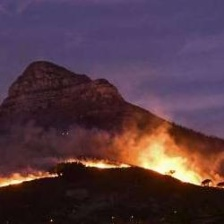fire: (1, 143, 205, 188)
